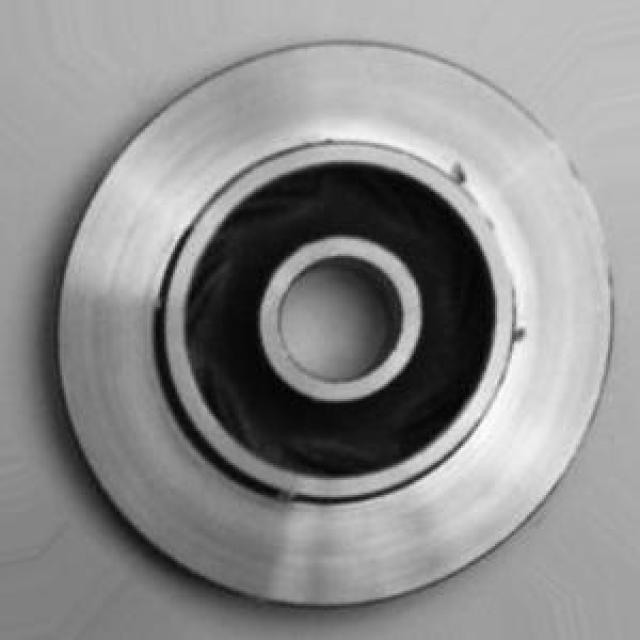Defect: (444, 158, 475, 194)
